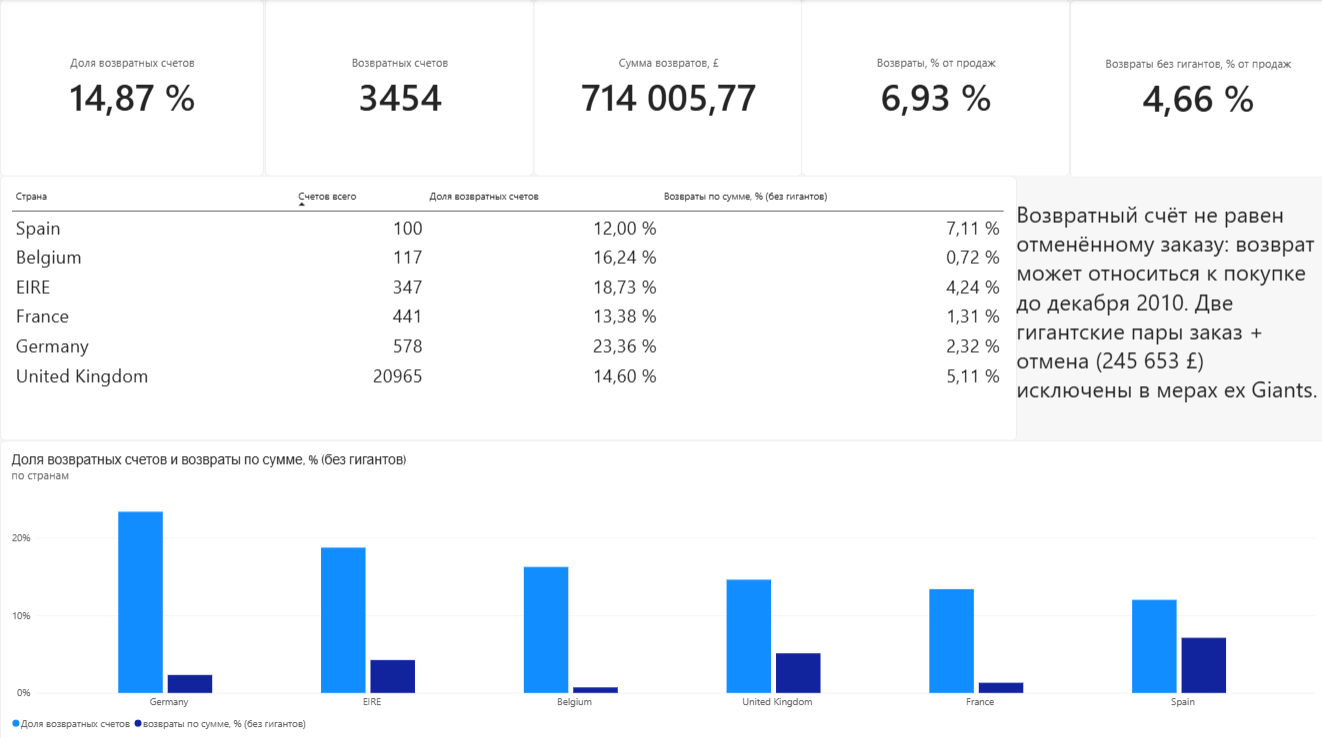

What the dashboard file says about the page in this screenshot:
{"tool":"powerbi","page":{"name":"Возвраты","canvas":[1920,1080],"ordinal":2},"visuals":[{"type":"cardVisual","fields":{"Data":["DateTable.Return Invoices"]},"box":[382.8,0,389,257.3],"z":0},{"type":"cardVisual","fields":{"Data":["DateTable.Return Invoice %"]},"box":[0,0,382.8,257.3],"z":1},{"type":"cardVisual","fields":{"Data":["DateTable.Returns Value"]},"box":[771.9,0,389,257.3],"z":2},{"type":"cardVisual","fields":{"Data":["DateTable.Return %"]},"box":[1160.9,0,389,257.3],"z":3},{"type":"cardVisual","fields":{"Data":["DateTable.Return % ex Giants"]},"box":[1549.9,2.1,370.5,257.3],"z":5},{"type":"tableEx","fields":{"Values":["transactions.Country","DateTable.All Invoices","DateTable.Return Invoice %","DateTable.Return % ex Giants"]},"box":[0,257.3,1471.7,382.8],"z":6},{"type":"clusteredColumnChart","fields":{"Category":["transactions.Country"],"Y":["DateTable.Return Invoice %","DateTable.Return % ex Giants"]},"box":[0,640.1,1920.4,440.5],"z":7},{"type":"textbox","box":[1471.7,290.2,448.7,319],"z":8}]}

Visuals, with their boxes in screenshot pixels (x1, y1, x2, y2), scaled from the page's 1920x1080 canvas onto the 1322x738 screenshot:
cardVisual - DateTable.Return Invoices: left=264, top=0, right=531, bottom=176
cardVisual - DateTable.Return Invoice %: left=0, top=0, right=264, bottom=176
cardVisual - DateTable.Returns Value: left=531, top=0, right=799, bottom=176
cardVisual - DateTable.Return %: left=799, top=0, right=1067, bottom=176
cardVisual - DateTable.Return % ex Giants: left=1067, top=1, right=1321, bottom=177
tableEx - transactions.Country x DateTable.All Invoices: left=0, top=176, right=1013, bottom=437
clusteredColumnChart - transactions.Country x DateTable.Return Invoice %: left=0, top=437, right=1321, bottom=737
textbox: left=1013, top=198, right=1321, bottom=416
